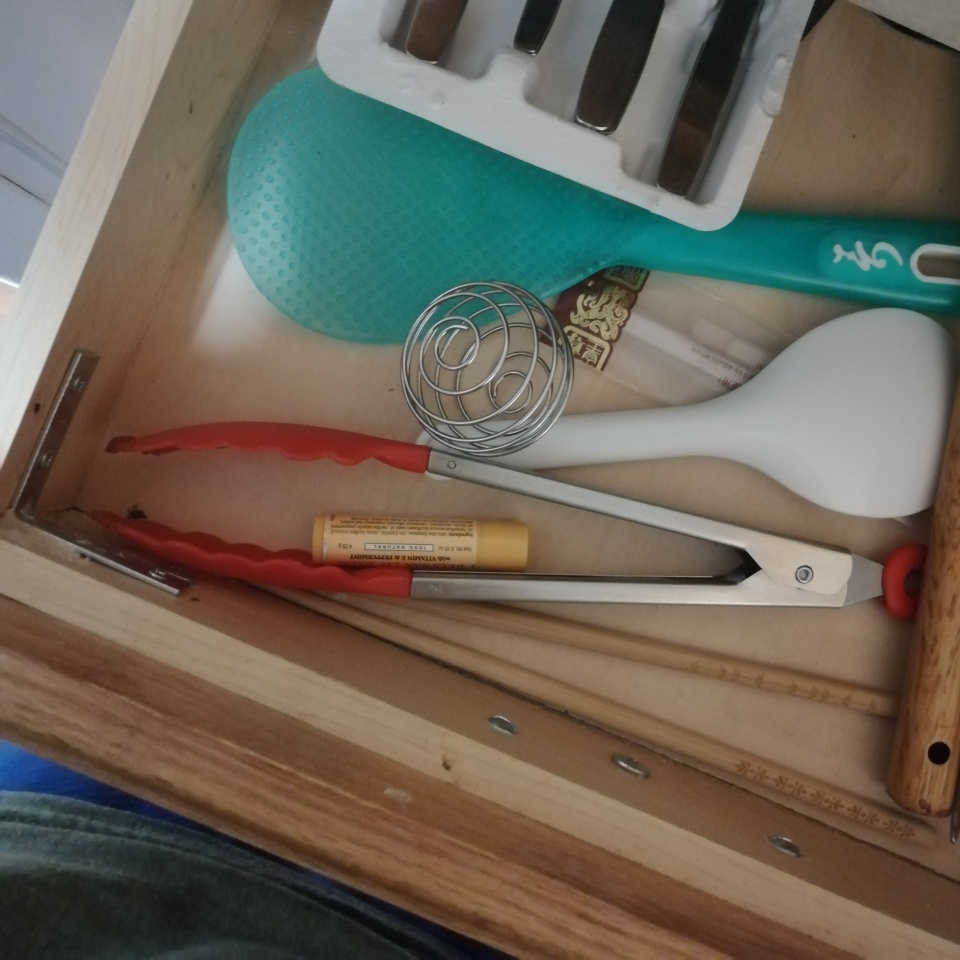chapstick: (310, 512, 531, 574)
